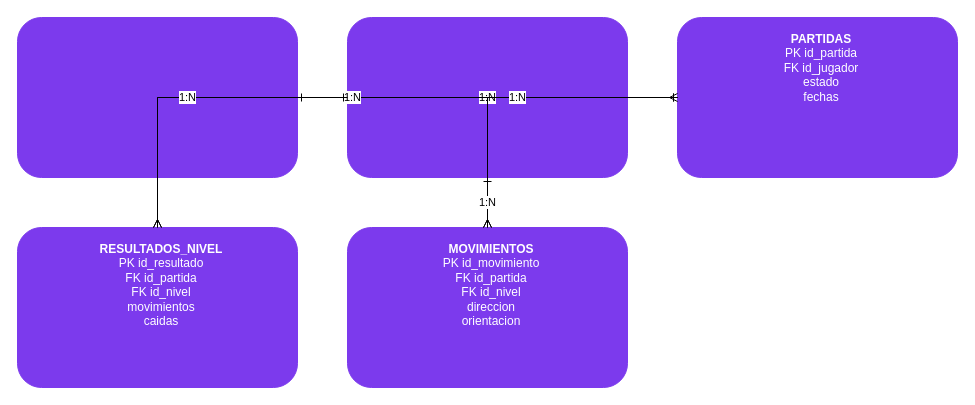
The diagram is 975 pixels wide and 405 high, and some of its shapes have lost their labels. Here are the shapes that lost their labels. From the top down, the centre of each, then its label:
At [157,97]: "JUGADORES PK id_jugador alias curso institucion".
At [487,97]: "NIVELES PK id_nivel numero UQ configuracion_json".
